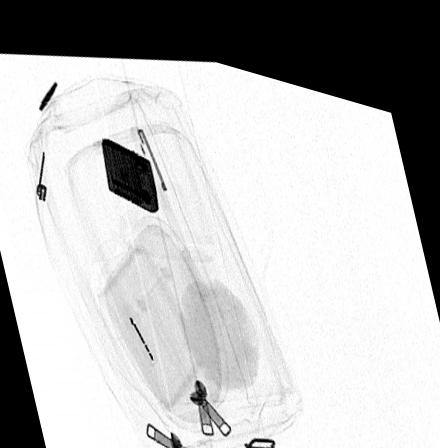Lighter: (101, 130, 158, 203)
